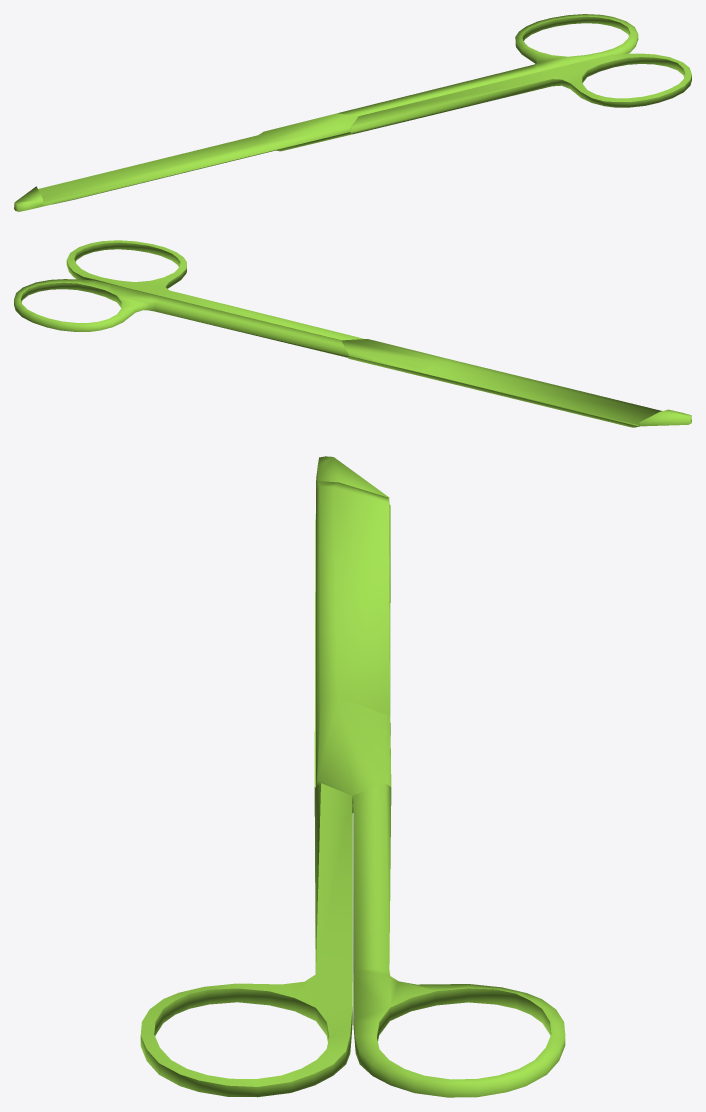
The model's file is SM_Morgue_Scissors_5.FBX.
3 renders of one model, top to bottom at view 1: azimuth 30°, elevation 25°; view 2: azimuth 150°, elevation 25°; view 3: azimuth 270°, elevation 25°, orthographic. The views are drawn at different scales.
Visible parts, largest first — view 1: Morgue_Scissors_5_element_1, Morgue_Scissors_5_element_2; view 2: Morgue_Scissors_5_element_1, Morgue_Scissors_5_element_2; view 3: Morgue_Scissors_5_element_1, Morgue_Scissors_5_element_2.
Part boxes in pixels (box(x1,y1,x2,y2)): Morgue_Scissors_5_element_1: box(14, 14, 638, 211); Morgue_Scissors_5_element_2: box(53, 53, 691, 204); Morgue_Scissors_5_element_1: box(14, 279, 691, 426); Morgue_Scissors_5_element_2: box(66, 240, 639, 427); Morgue_Scissors_5_element_1: box(316, 456, 565, 1097); Morgue_Scissors_5_element_2: box(140, 514, 353, 1097).
Bounding box in the file's own units: 21.87 × 0.3831 × 6.3.
